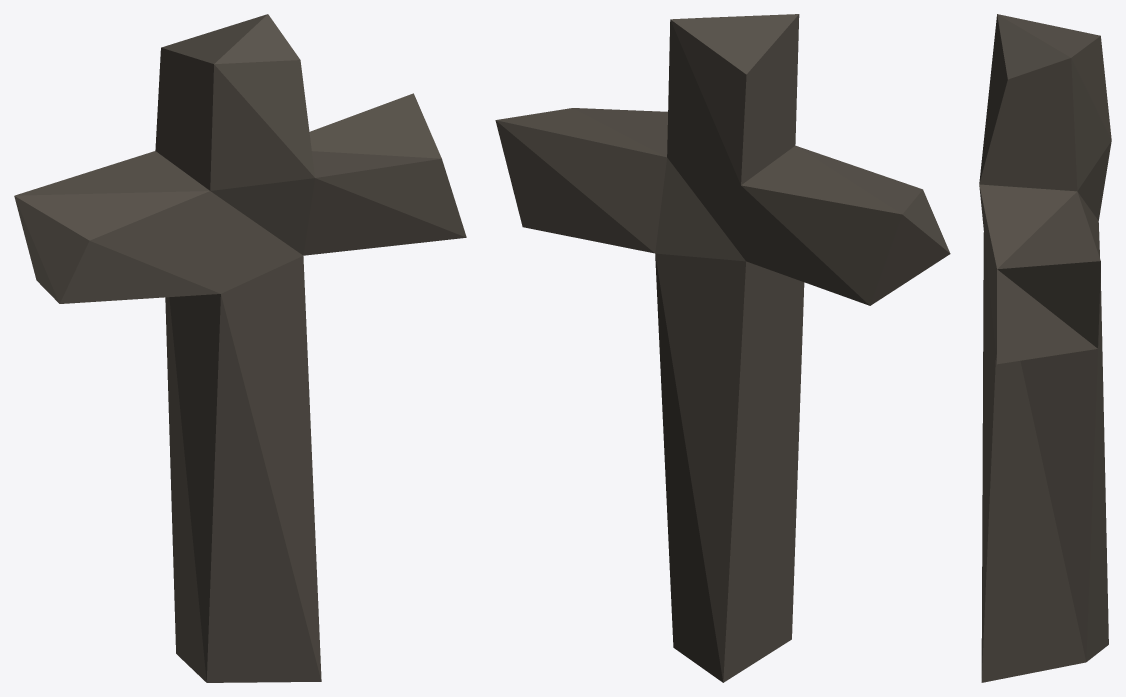
The model's file is grave_cross_01.fbx.
The picture shows the model from 3 angles, left to right: view 1: azimuth 30°, elevation 25°; view 2: azimuth 150°, elevation 25°; view 3: azimuth 270°, elevation 25°; orthographic projection. The views are drawn at different scales.
Visible parts, largest first — view 1: grave_cross_01; view 2: grave_cross_01; view 3: grave_cross_01.
Part boxes in pixels (x1,y1,x2,y2): grave_cross_01: [14, 14, 466, 682]; grave_cross_01: [495, 14, 950, 682]; grave_cross_01: [979, 14, 1111, 682].
Bounding box in the file's own units: 2.1 × 3.14 × 0.6063.
